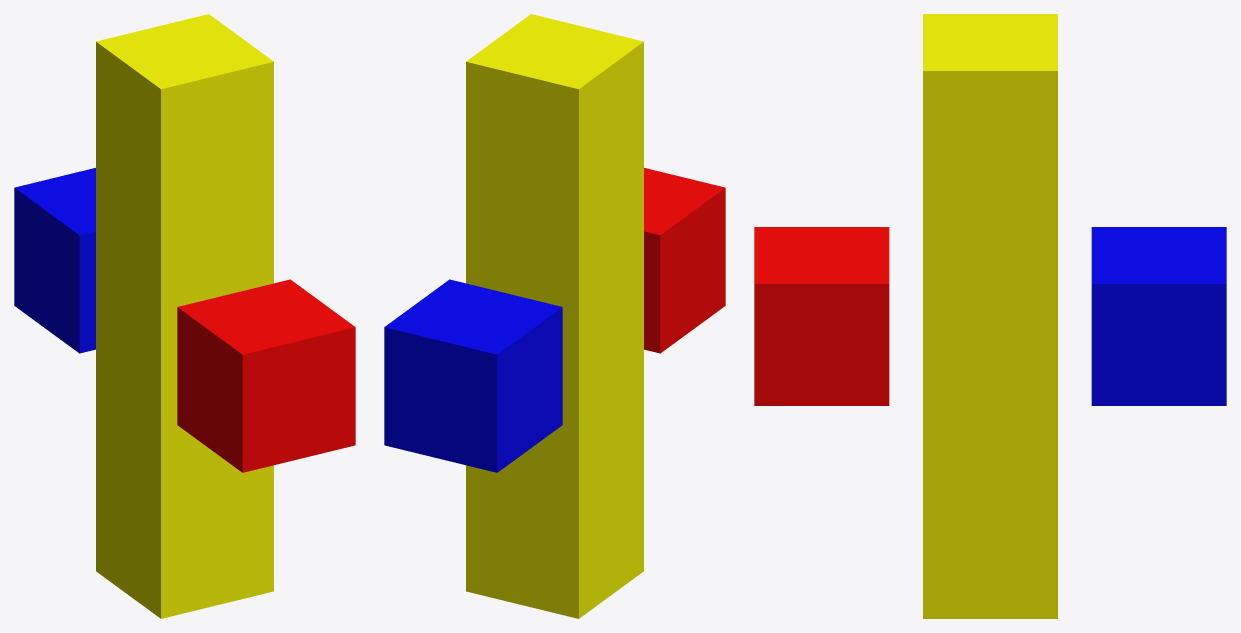
3 renders of one model, left to right at view 1: azimuth 30°, elevation 25°; view 2: azimuth 150°, elevation 25°; view 3: azimuth 270°, elevation 25°, orthographic. The views are drawn at different scales.
Visible parts, largest first — view 1: Cube, Cube.001, Cube.002; view 2: Cube, Cube.002, Cube.001; view 3: Cube, Cube.001, Cube.002.
Boxes of the visible parts, bbox=[...] form: Cube: bbox=[96, 14, 273, 618]; Cube.001: bbox=[177, 279, 355, 472]; Cube.002: bbox=[14, 168, 95, 353]; Cube: bbox=[466, 14, 643, 618]; Cube.002: bbox=[384, 279, 562, 472]; Cube.001: bbox=[644, 168, 725, 353]; Cube: bbox=[923, 14, 1057, 618]; Cube.001: bbox=[754, 227, 889, 405]; Cube.002: bbox=[1091, 227, 1226, 405].
Size of the model in its own units: 2 by 8.96 by 7.
